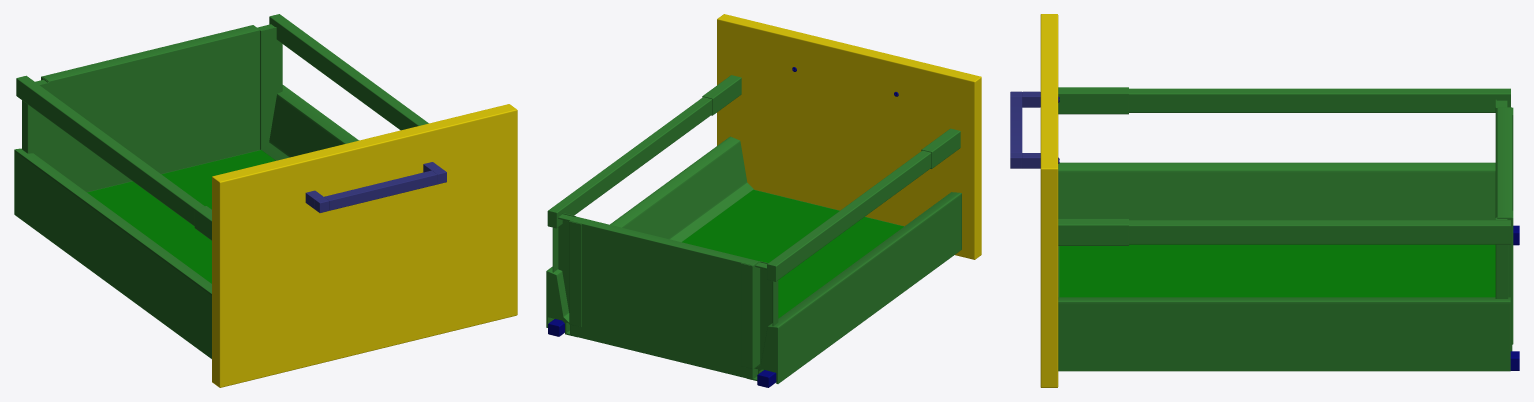
File: SM_Kitchen_03_Base_Drawer_02.fbx
3 views of the same model, side by side, from view 1: azimuth 30°, elevation 25°; view 2: azimuth 150°, elevation 25°; view 3: azimuth 270°, elevation 25° (orthographic). The views are drawn at different scales.
Parts seen in each view (by area): view 1: SM_Kitchen_03_Base_Drawer_02; view 2: SM_Kitchen_03_Base_Drawer_02; view 3: SM_Kitchen_03_Base_Drawer_02.
Boxes of the visible parts, x1,y1,x2,y2 form: SM_Kitchen_03_Base_Drawer_02: (14,14,517,387); SM_Kitchen_03_Base_Drawer_02: (546,14,981,387); SM_Kitchen_03_Base_Drawer_02: (1010,14,1519,387).
Bounding box in the file's own units: 39.8 × 26.3 × 55.29.
